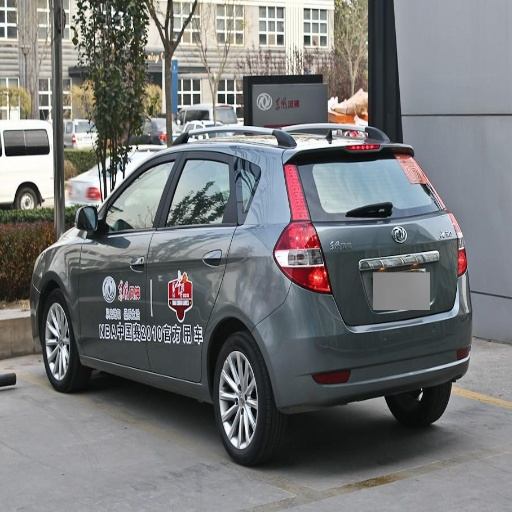back_bumper: (254, 280, 471, 416)
back_glass: (303, 151, 436, 208)
back_left_door: (149, 150, 240, 382)
